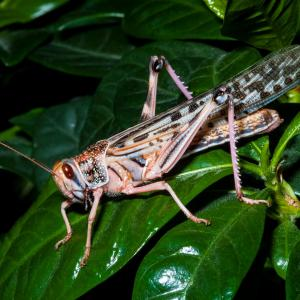locust: (51, 36, 298, 228)
